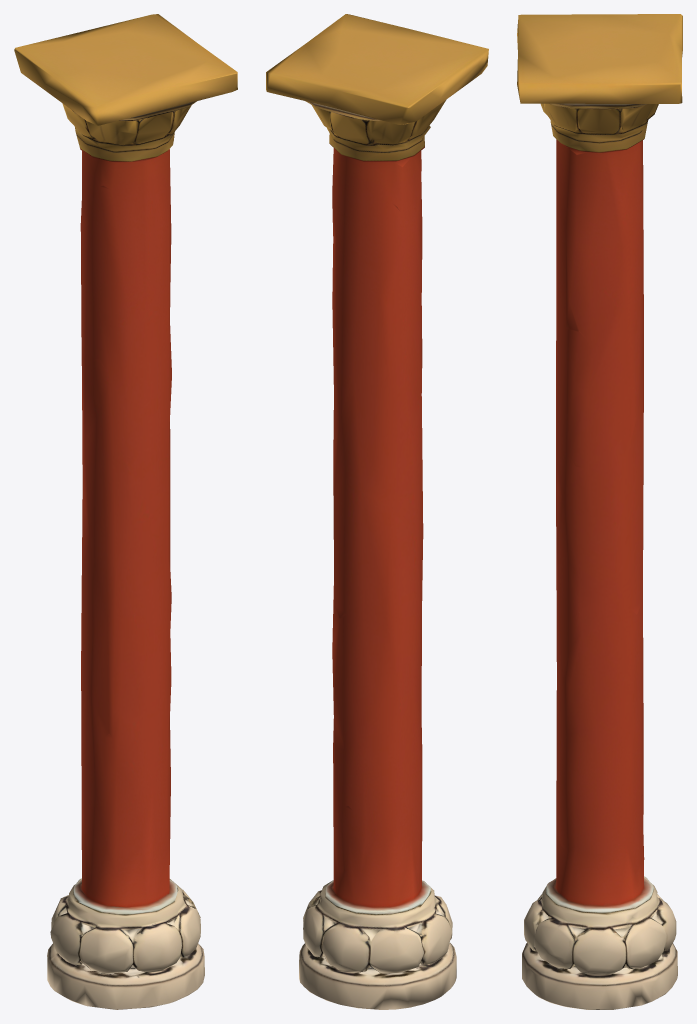
The model's file is column.glb.
3 renders of one model, left to right at view 1: azimuth 30°, elevation 25°; view 2: azimuth 150°, elevation 25°; view 3: azimuth 270°, elevation 25°, orthographic.
Visible parts, largest first — view 1: tripo_node_4a29cc8d-92d2-4c8e-b430-ef5b14aabe70; view 2: tripo_node_4a29cc8d-92d2-4c8e-b430-ef5b14aabe70; view 3: tripo_node_4a29cc8d-92d2-4c8e-b430-ef5b14aabe70.
Boxes of the visible parts, x1,y1,x2,y2 form: tripo_node_4a29cc8d-92d2-4c8e-b430-ef5b14aabe70: (14, 14, 237, 1009); tripo_node_4a29cc8d-92d2-4c8e-b430-ef5b14aabe70: (266, 14, 488, 1009); tripo_node_4a29cc8d-92d2-4c8e-b430-ef5b14aabe70: (517, 14, 682, 1009).
Size of the model in its own units: 0.1654 by 1 by 0.162.
Materials: 1 (1 with a texture image).
